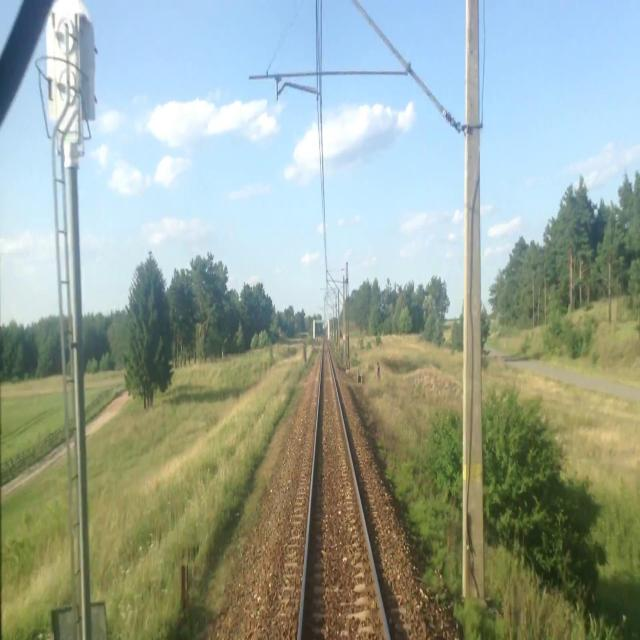rail-track: (302, 343, 386, 639)
